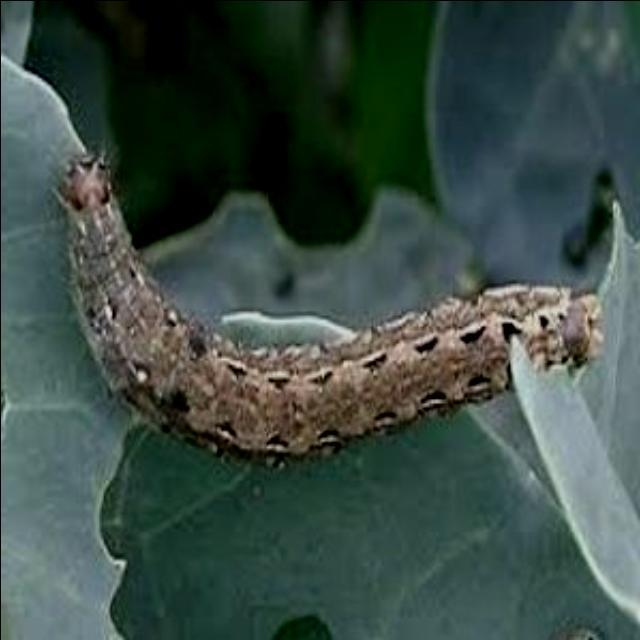Tobacco cutworm: (26, 115, 618, 543)
